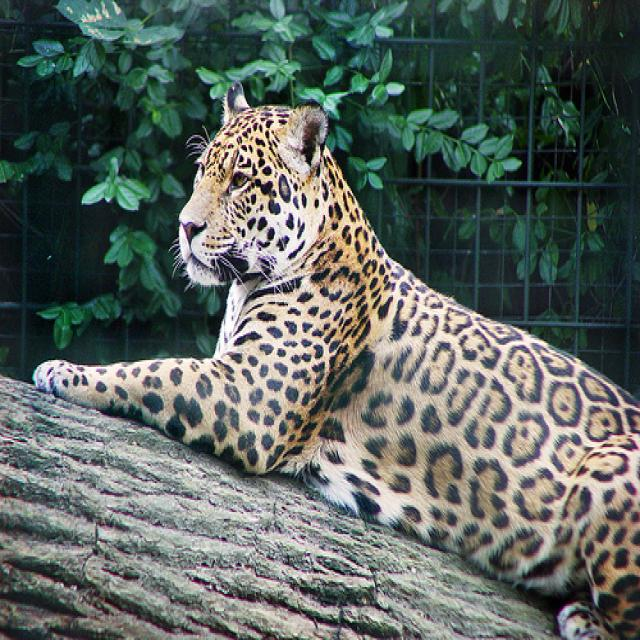Leopard: (32, 82, 637, 635)
